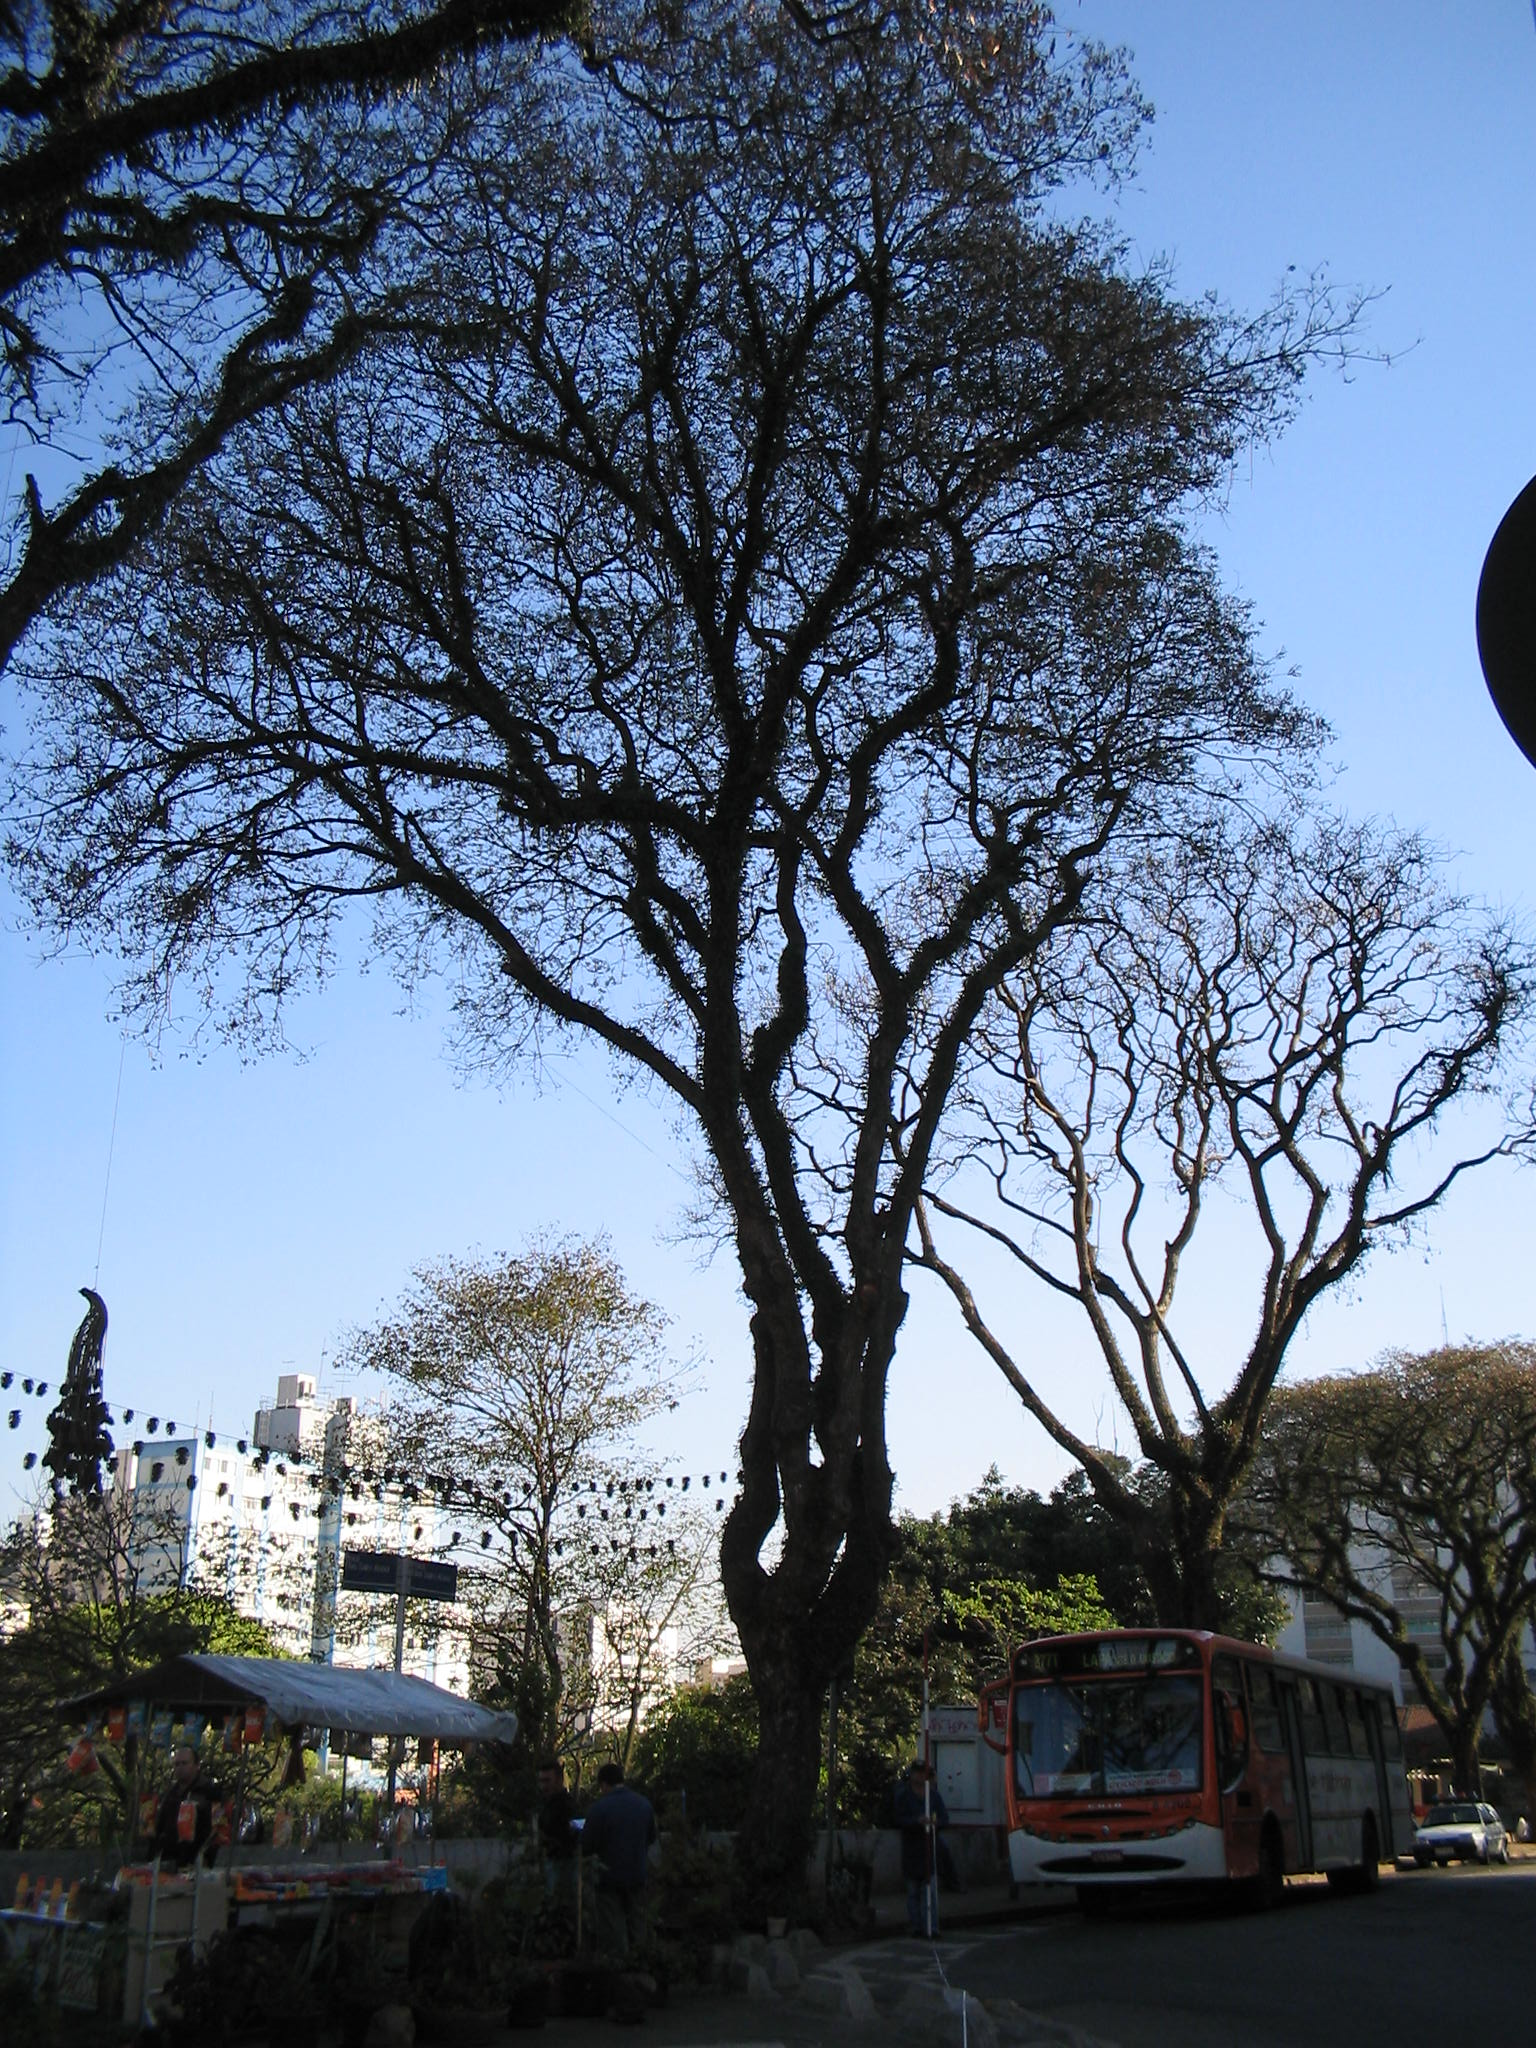crown: (65, 16, 1329, 1103)
stem: (686, 1624, 899, 1934)
stick: (894, 1634, 957, 1942)
tree: (52, 11, 1315, 1940), (895, 829, 1533, 1879), (1254, 1350, 1536, 1822)
